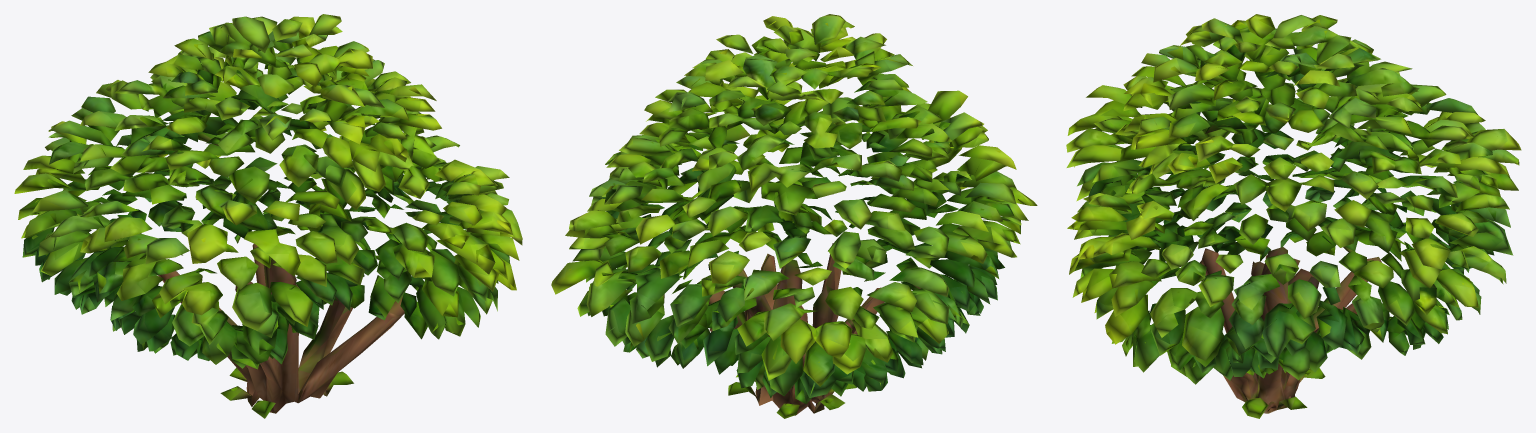
File: rounded-bush-mobile.glb
3 renders of one model, left to right at view 1: azimuth 30°, elevation 25°; view 2: azimuth 150°, elevation 25°; view 3: azimuth 270°, elevation 25°, orthographic.
Visible parts, largest first — view 1: node_0; view 2: node_0; view 3: node_0.
Boxes of the visible parts, box(x1,y1,x2,y2) form: node_0: box(14, 14, 522, 418); node_0: box(551, 14, 1037, 418); node_0: box(1066, 14, 1521, 418).
Size of the model in its own units: 1.03 by 0.9281 by 1.04.
1 material, 1 textured.
